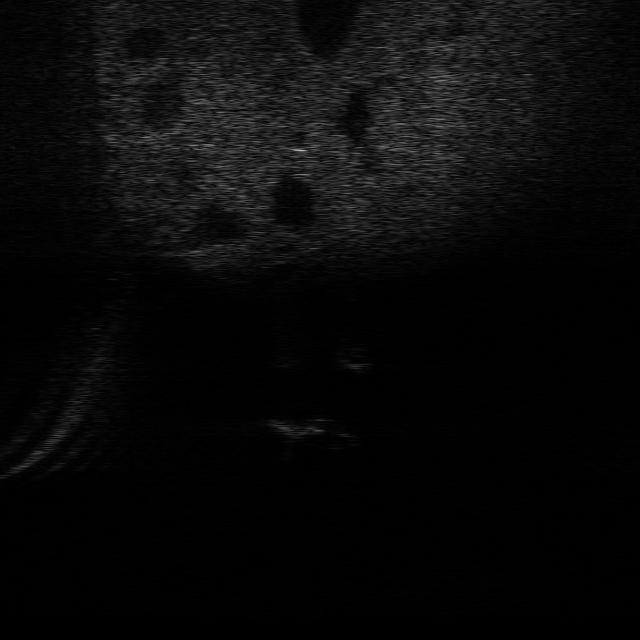ball: (334, 343, 376, 372)
square cage: (260, 411, 335, 445)
